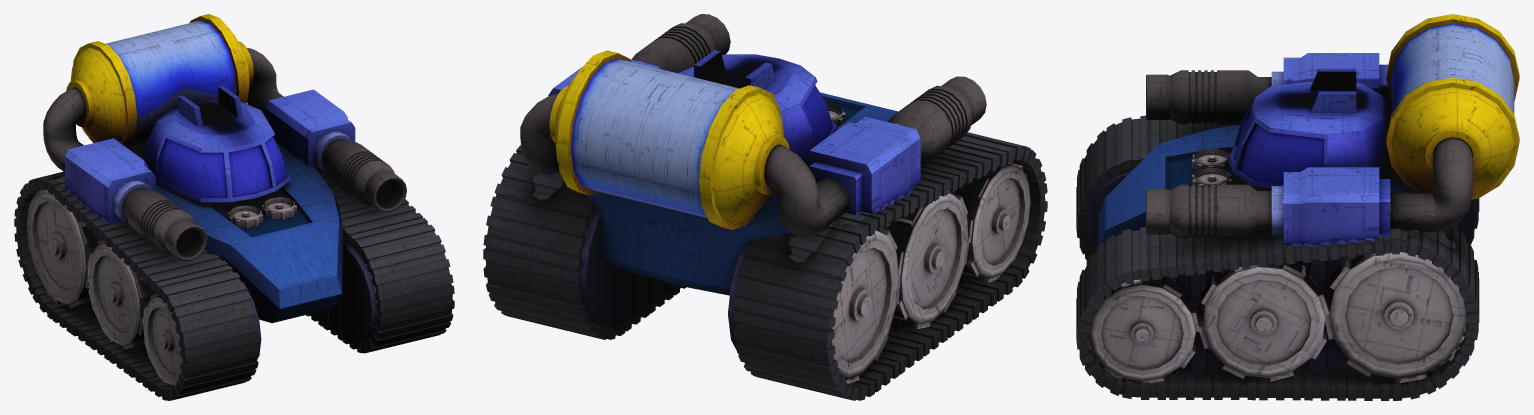
The model's file is PlayerB17.obj.
3 renders of one model, left to right at view 1: azimuth 30°, elevation 25°; view 2: azimuth 150°, elevation 25°; view 3: azimuth 270°, elevation 25°, orthographic. The views are drawn at different scales.
Parts seen in each view (by area): view 1: Object001, Box042, Object004, Object003, Object002; view 2: Object001, Box042, Object003, Object004, Object002; view 3: Object001, Box042, Object004, Object003, Object002.
Part boxes in pixels (x1,y1,x2,y2): Object001: (43, 14, 406, 359); Box042: (14, 171, 454, 400); Object004: (26, 189, 100, 308); Object003: (87, 240, 155, 349); Object002: (142, 294, 182, 385); Object001: (520, 14, 986, 354); Box042: (483, 132, 1047, 400); Object003: (889, 191, 969, 328); Object004: (832, 229, 900, 383); Object002: (958, 163, 1030, 282); Object001: (1085, 14, 1519, 374); Box042: (1076, 115, 1479, 400); Object004: (1325, 252, 1467, 382); Object003: (1198, 261, 1329, 381); Object002: (1087, 276, 1199, 383).
Bounding box in the file's own units: 121 × 101 × 147.
2 materials, 2 textured.
